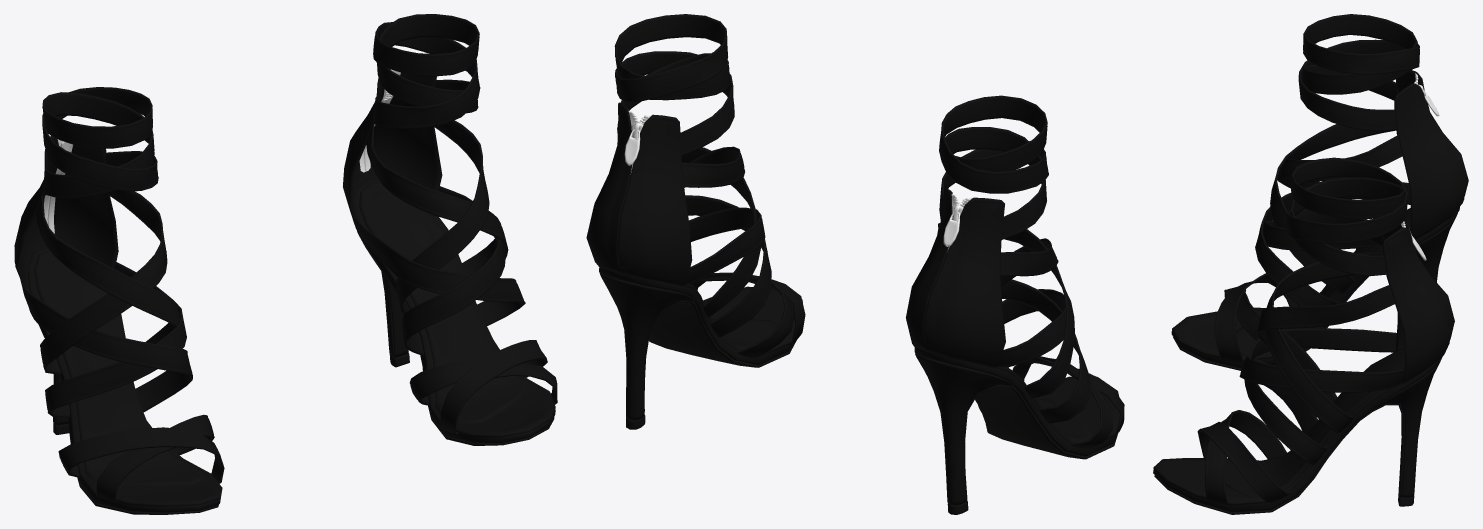
Rendered from jill-high-heels.glb.
3 renders of one model, left to right at view 1: azimuth 30°, elevation 25°; view 2: azimuth 150°, elevation 25°; view 3: azimuth 270°, elevation 25°, orthographic. The views are drawn at different scales.
Visible parts, largest first — view 1: Jill_Black_High_Heels; view 2: Jill_Black_High_Heels; view 3: Jill_Black_High_Heels.
Boxes of the visible parts, x1,y1,x2,y2 form: Jill_Black_High_Heels: (14,14,557,514); Jill_Black_High_Heels: (586,14,1124,514); Jill_Black_High_Heels: (1153,14,1468,514).
Size of the model in its own units: 0.313 by 0.2296 by 0.2009.
Materials: 1 (1 with a texture image).
